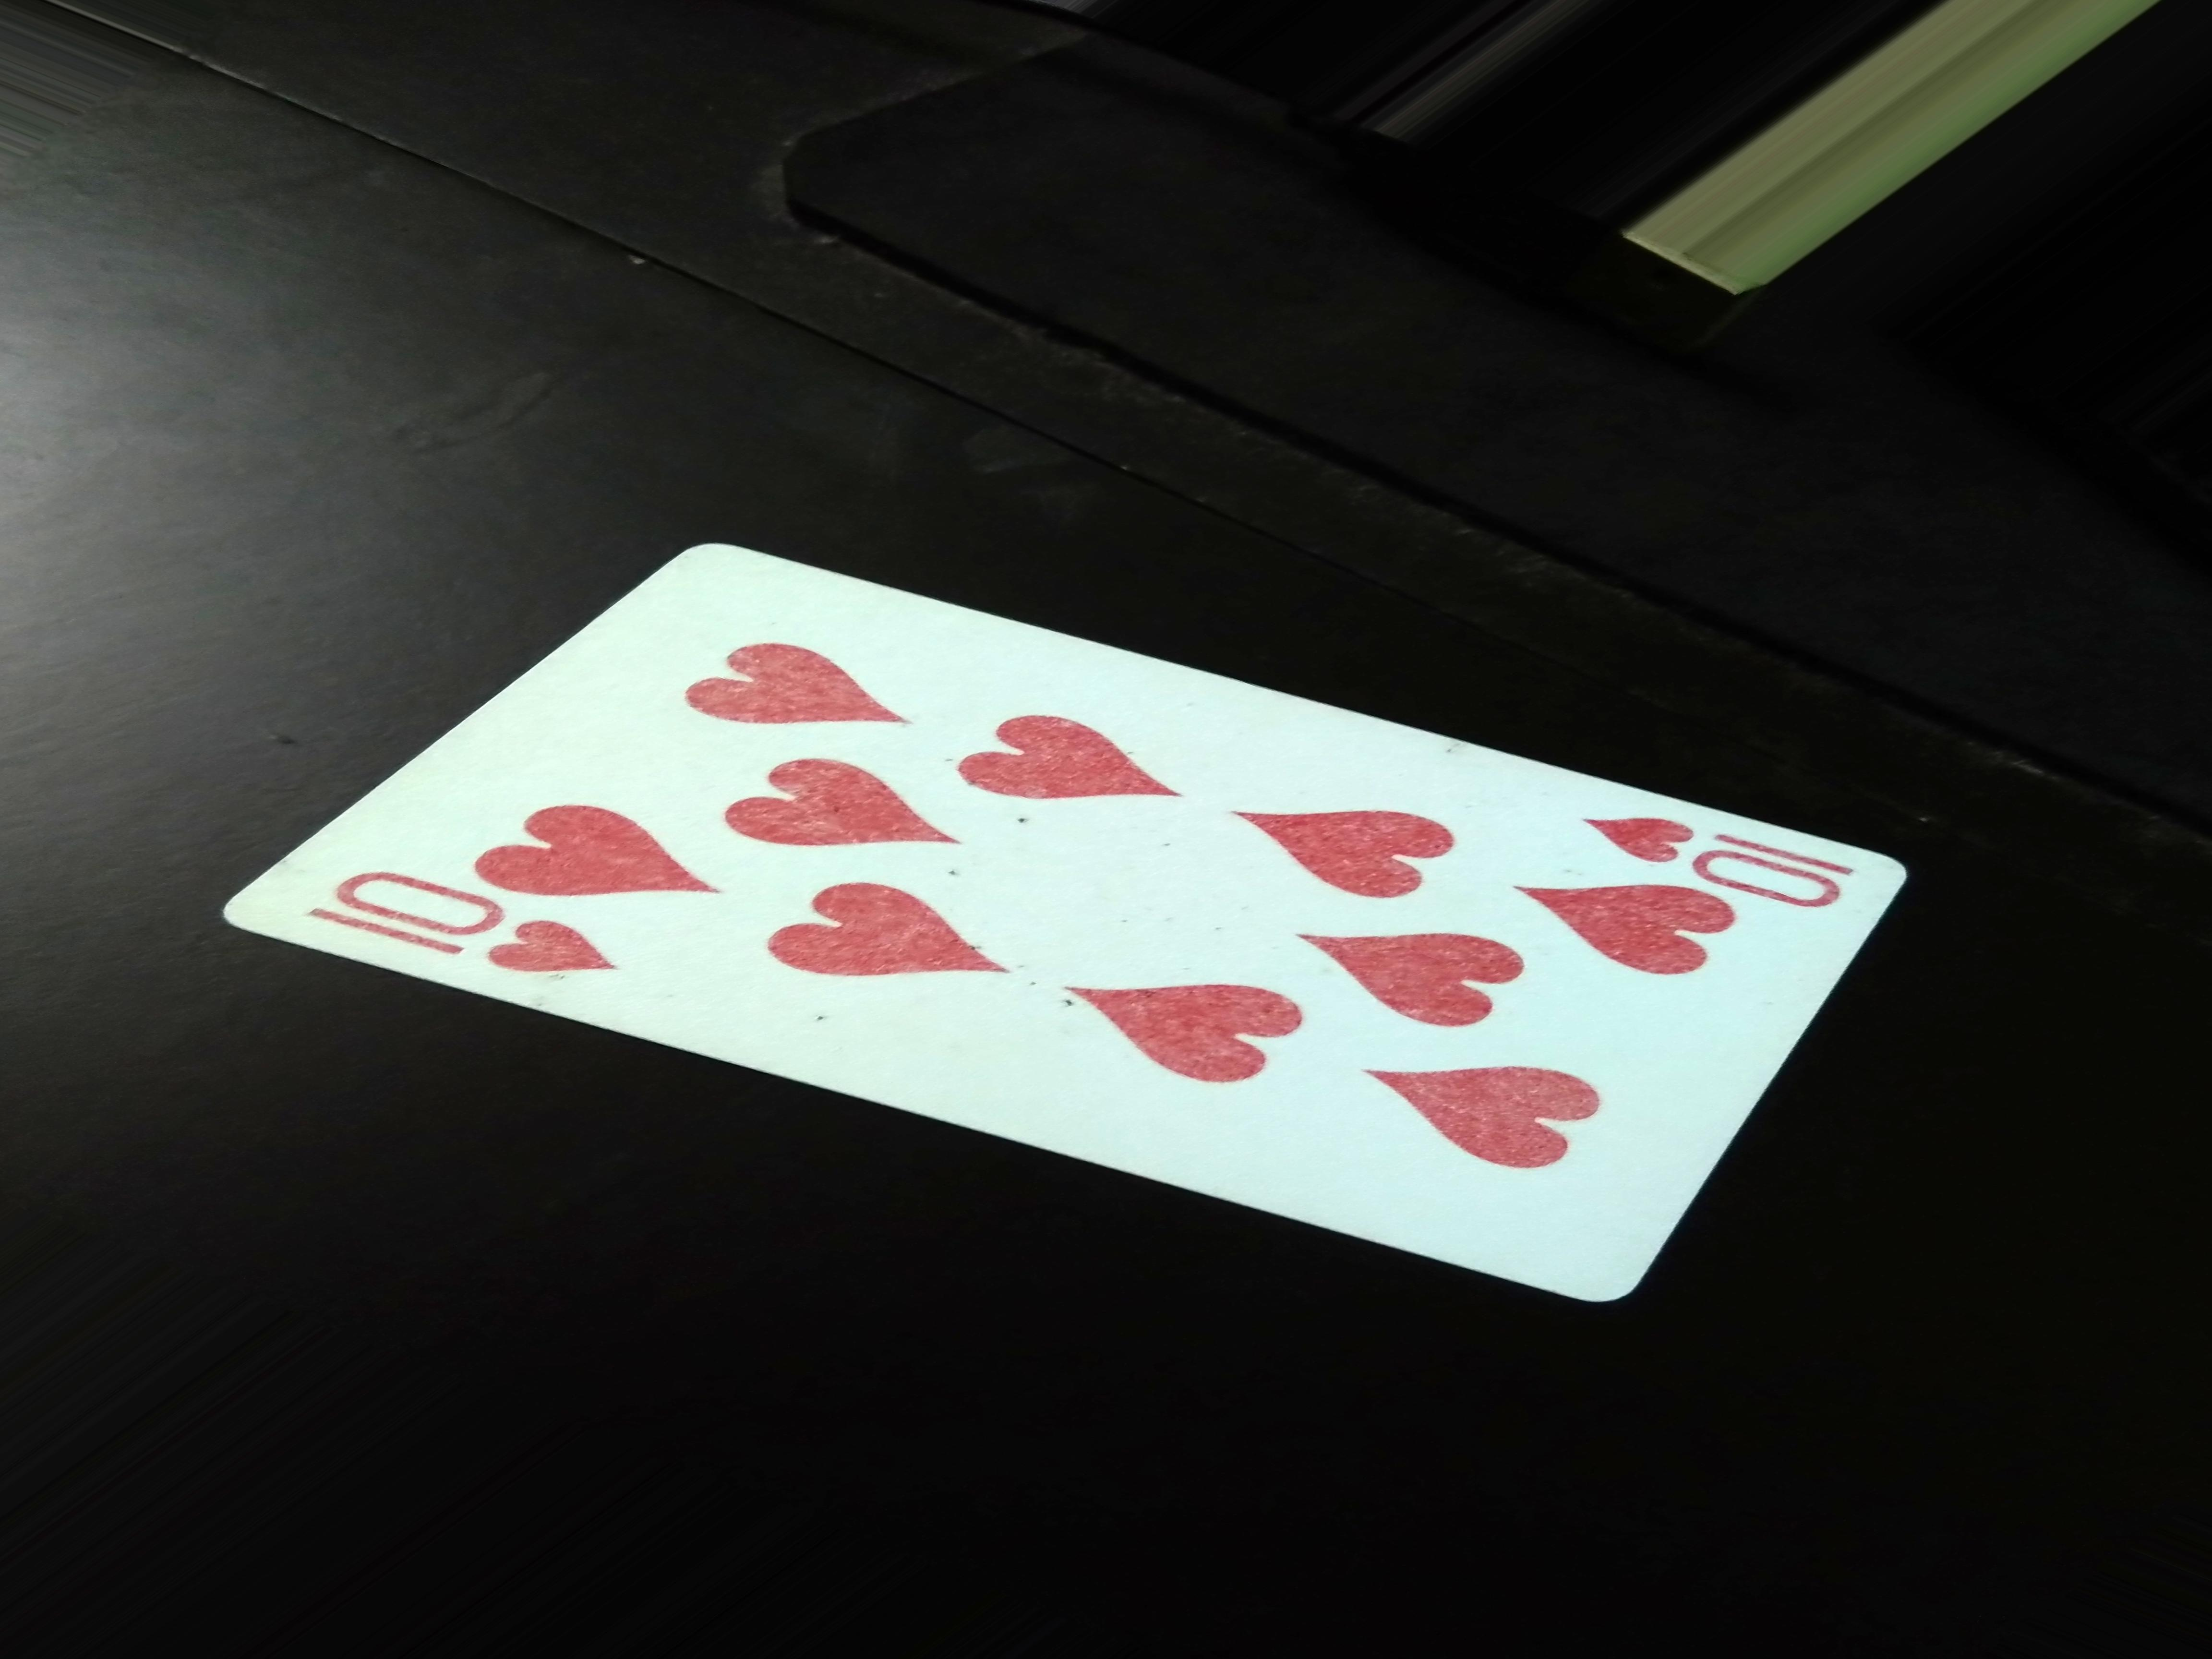10H: (1585, 798, 1853, 911)
